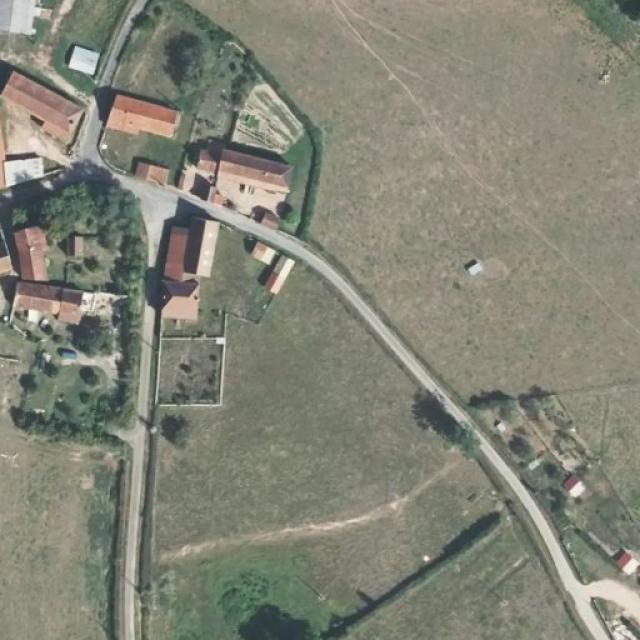ferme: (0, 0, 51, 40)
maison: (160, 204, 218, 326), (210, 140, 298, 212), (1, 70, 83, 144), (11, 278, 119, 332), (106, 90, 182, 140), (15, 204, 55, 287), (250, 232, 294, 299), (132, 153, 176, 187)
